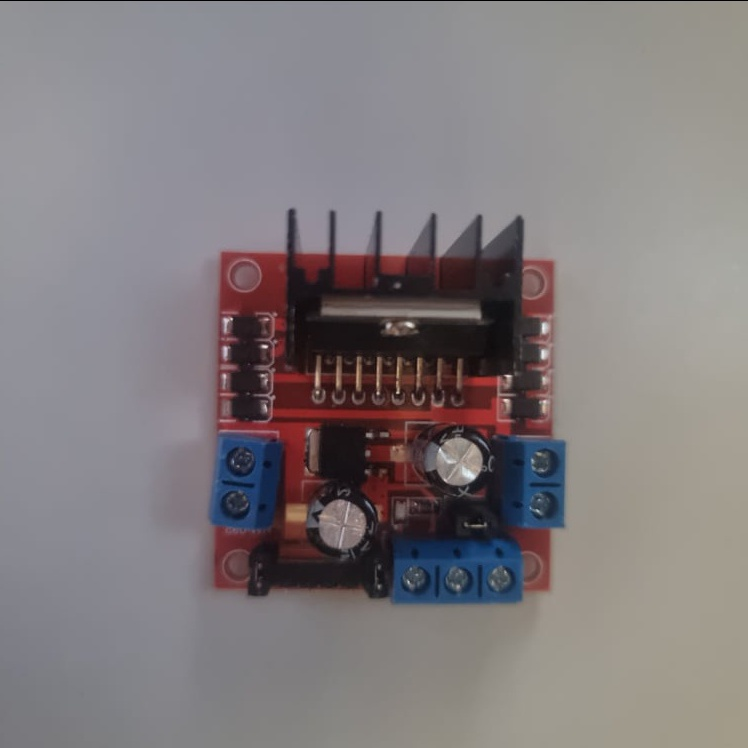MOTOR: (203, 203, 569, 606)
